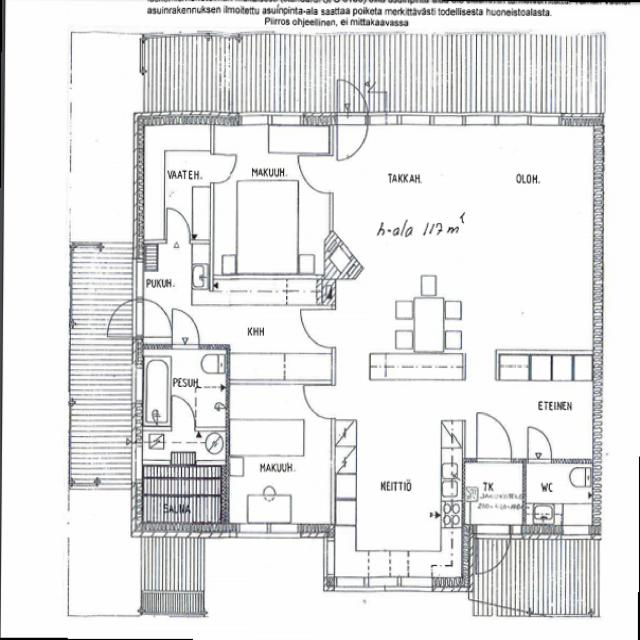door: (98, 300, 144, 337), (133, 300, 178, 337), (477, 526, 511, 574), (294, 155, 333, 193), (296, 309, 335, 347), (337, 112, 368, 158), (337, 79, 368, 125), (477, 421, 511, 462), (302, 387, 335, 419), (172, 316, 199, 349), (210, 154, 241, 182), (171, 401, 194, 431), (528, 433, 551, 462), (167, 216, 189, 244)
